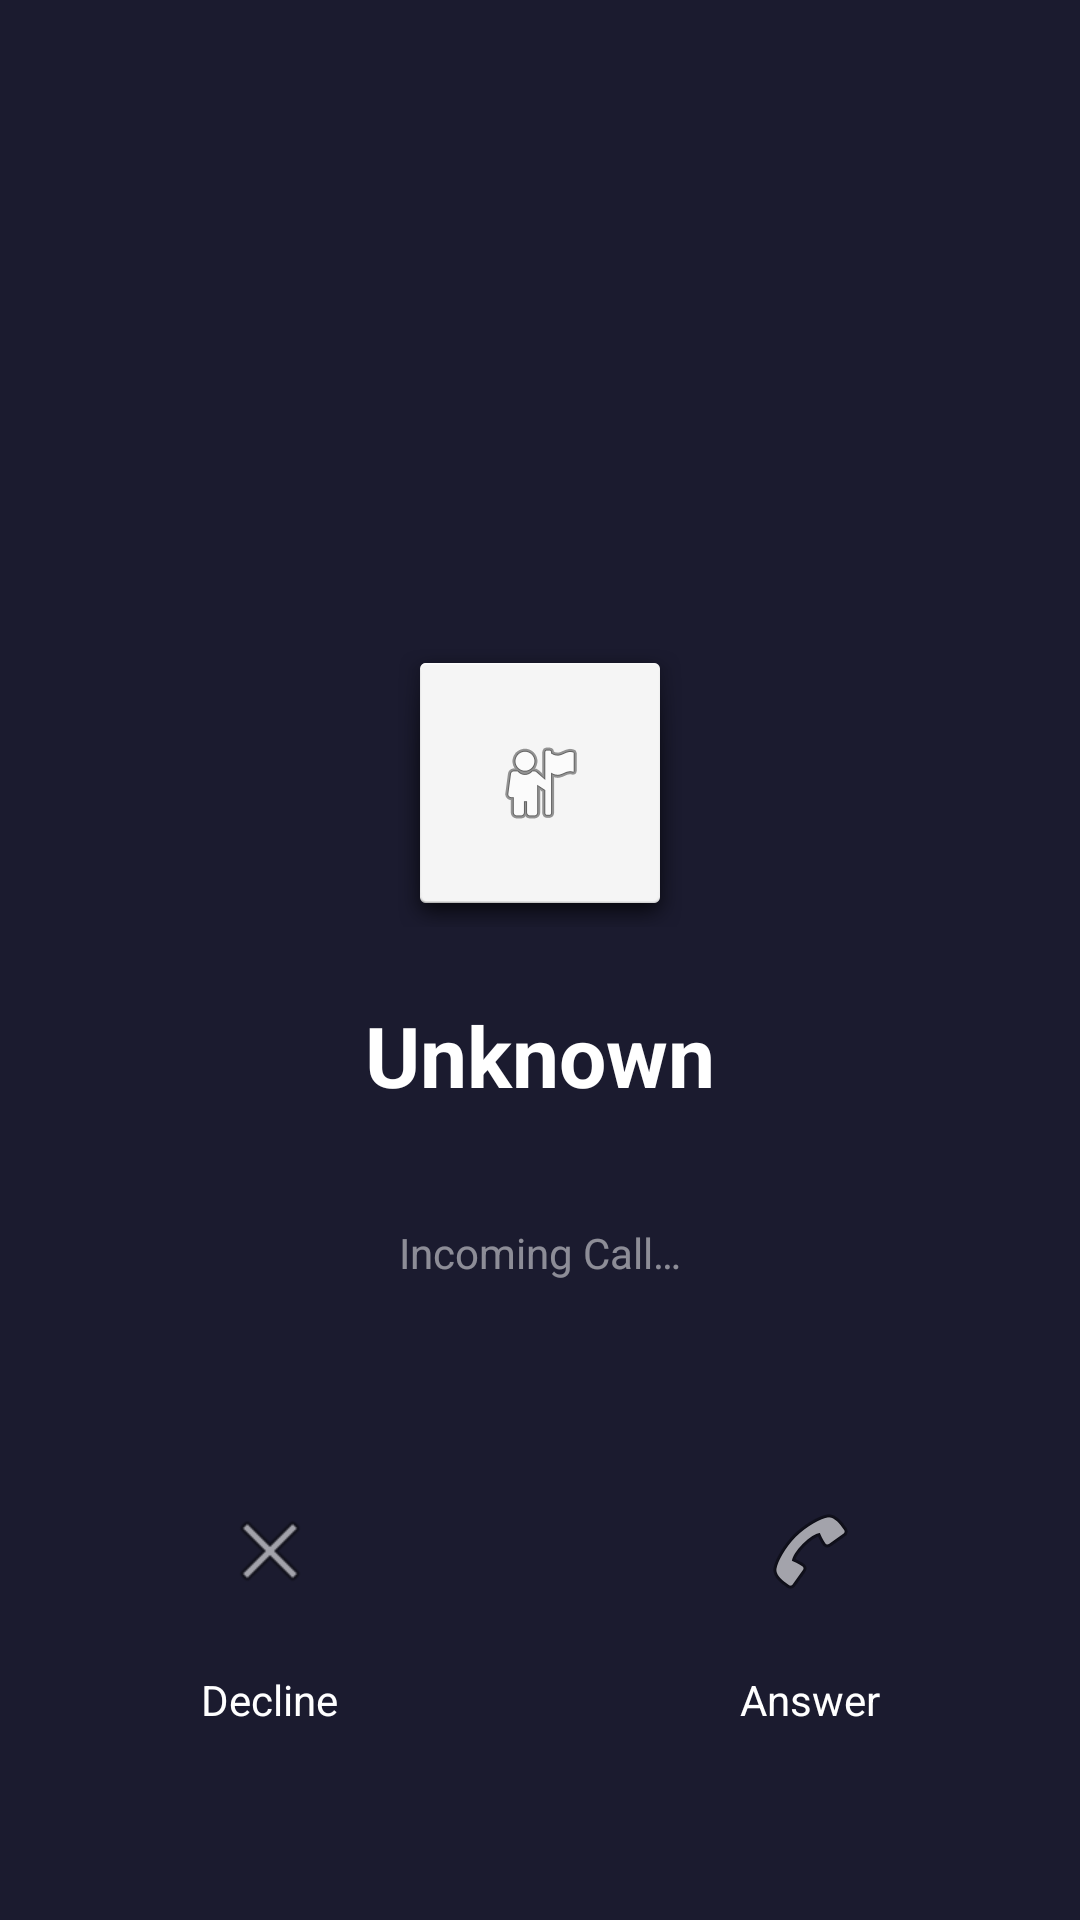

Where icons sit on this 1080×1920 app screen, as (x1,y1,x2,y2):
Caller avatar: (420,663,660,906)
